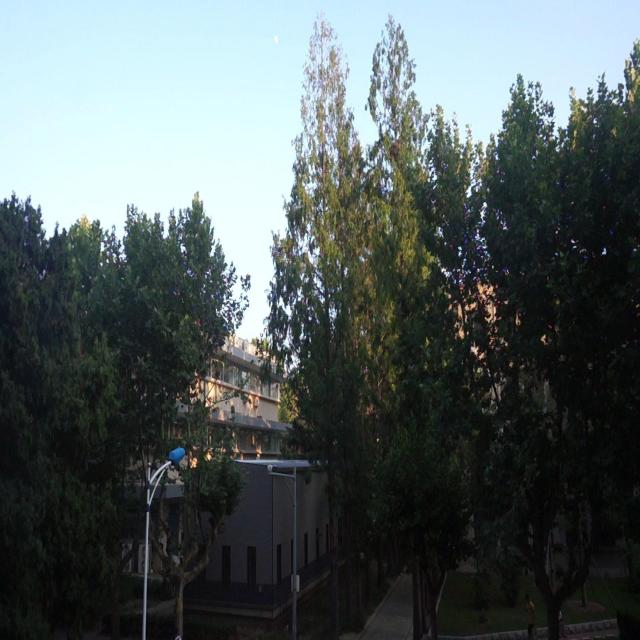UAV: (274, 247, 284, 256)
